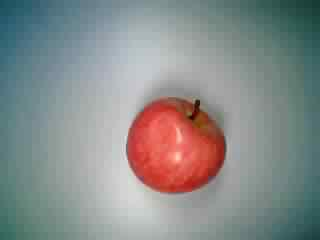apple: (122, 93, 229, 197)
